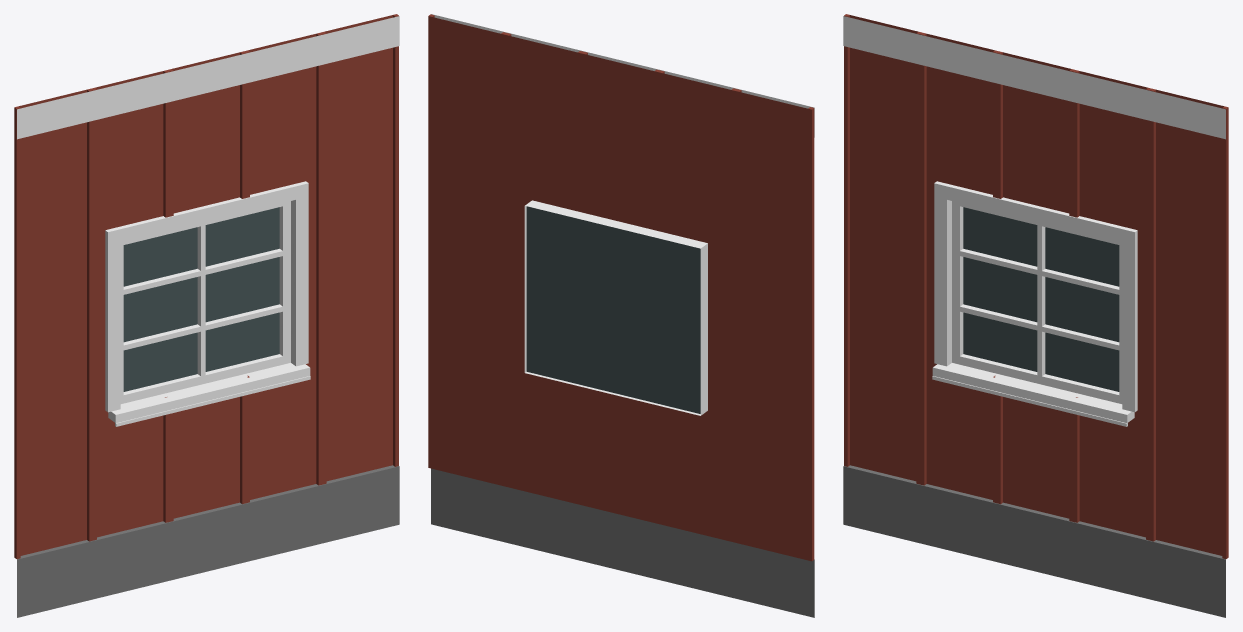
File: base-w1_close.fbx
3 renders of one model, left to right at view 1: azimuth 30°, elevation 25°; view 2: azimuth 150°, elevation 25°; view 3: azimuth 330°, elevation 25°, orthographic.
Parts seen in each view (by area): view 1: a2015/600/base-w1_close; view 2: a2015/600/base-w1_close; view 3: a2015/600/base-w1_close.
Part boxes in pixels (x1,y1,x2,y2): a2015/600/base-w1_close: [14, 14, 399, 617]; a2015/600/base-w1_close: [428, 14, 814, 617]; a2015/600/base-w1_close: [843, 14, 1228, 617].
Bounding box in the file's own units: 2.4 × 3.05 × 0.165.
